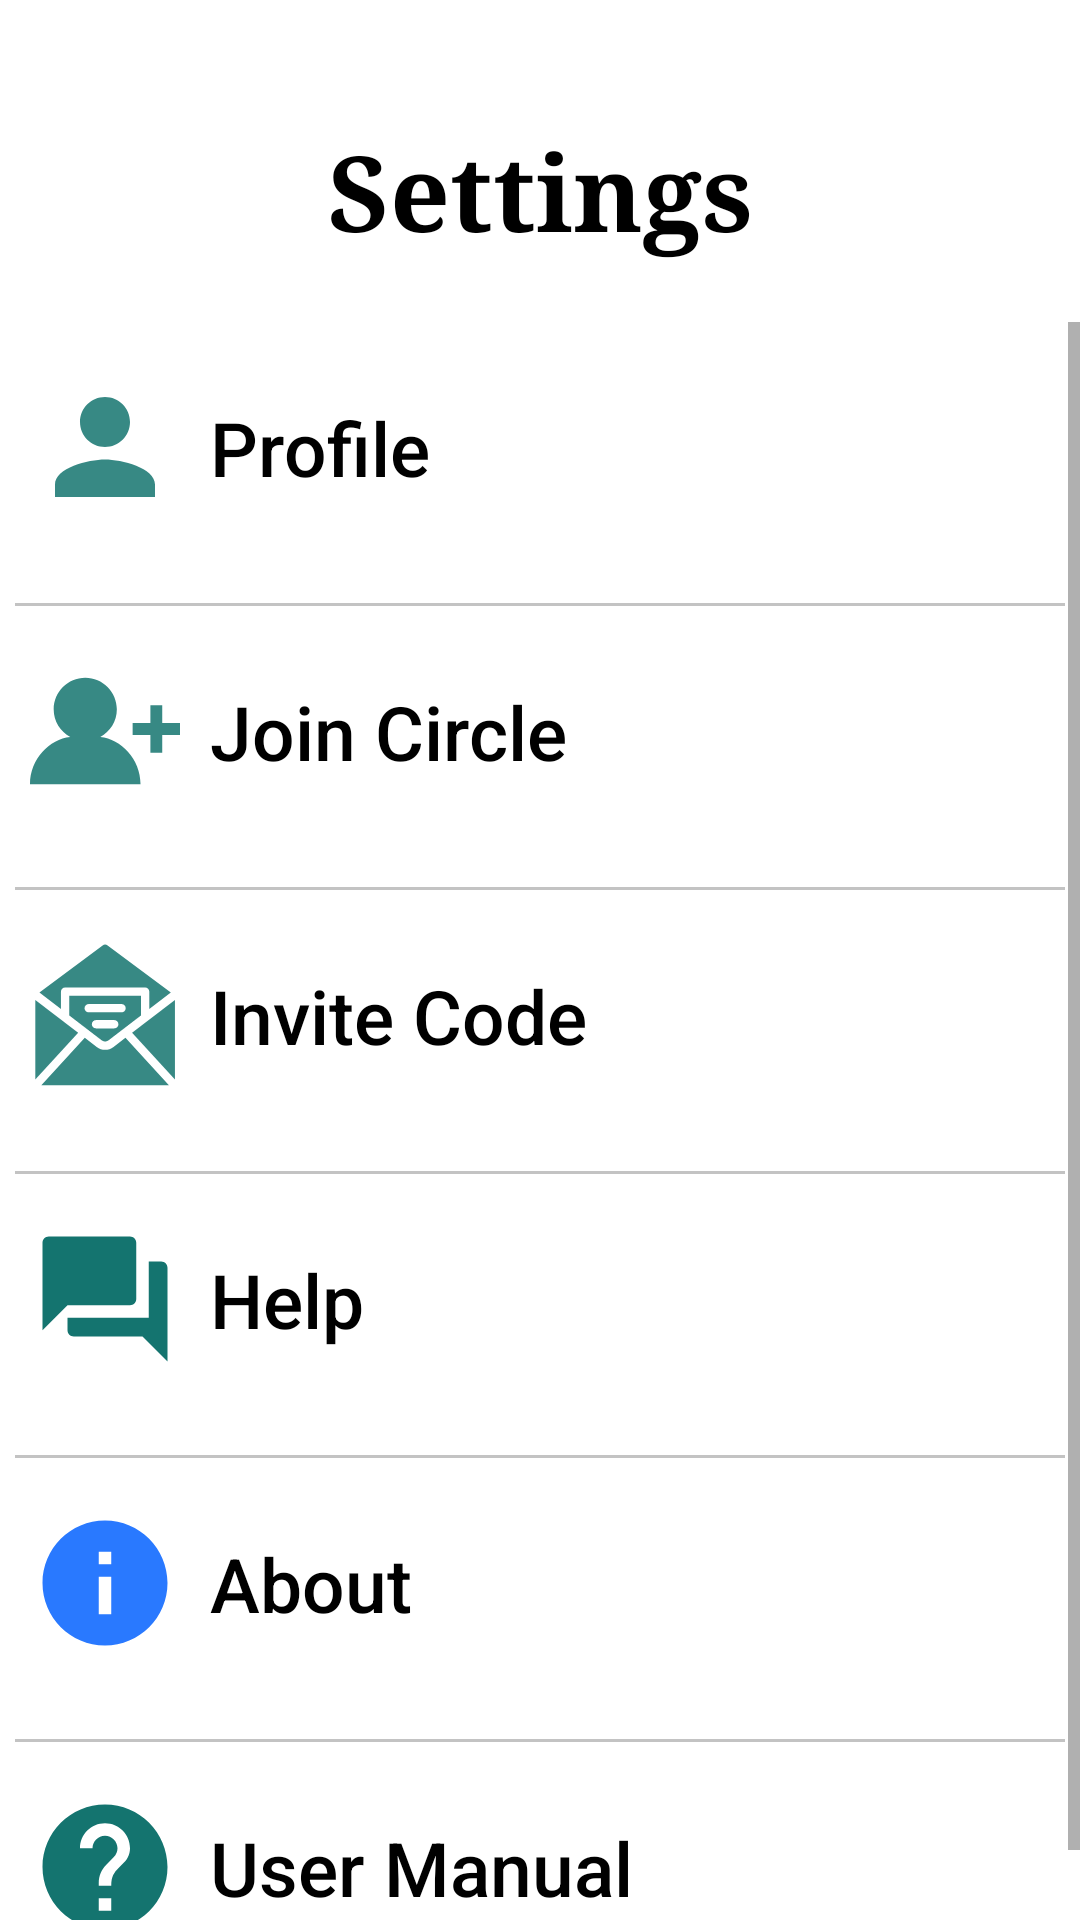

Icons on this 1080*1920 Android screen, each with its box as (x1,y1,x2,y2):
info: (42,1520,168,1646)
person: (55,397,155,497)
person add: (30,677,180,785)
question answer: (42,1236,168,1362)
